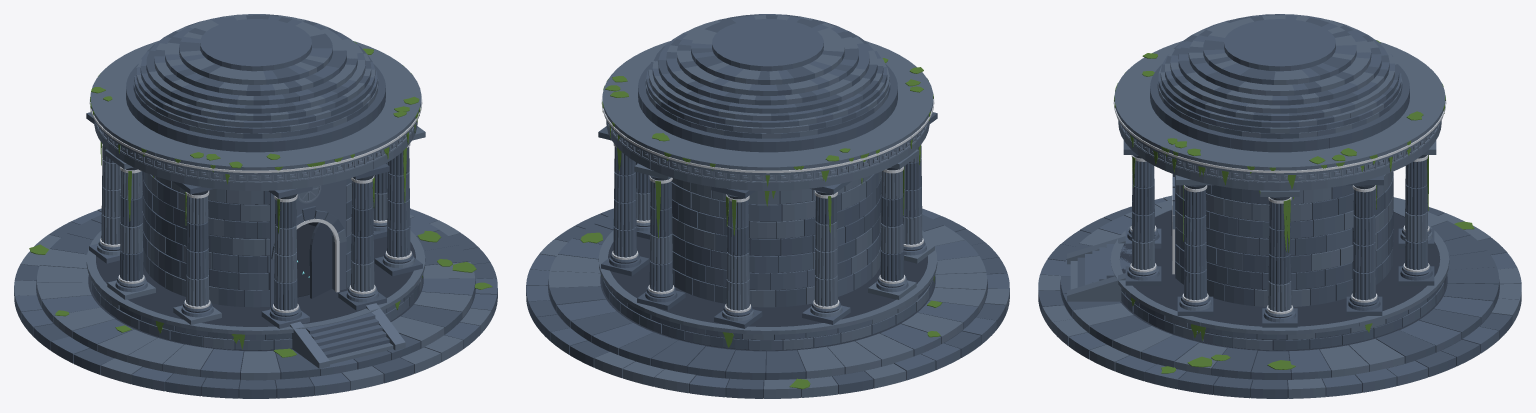
File: Faille_P1.fbx
The picture shows the model from 3 angles, left to right: view 1: azimuth 30°, elevation 25°; view 2: azimuth 150°, elevation 25°; view 3: azimuth 270°, elevation 25°; orthographic projection.
Visible parts, largest first — view 1: Faille_PierreB, Faille_PierreA, Faille_PierreC, Faille_Joint, Faille_Mousse, Faille_Argent, Faille_Gravure, Faille_Porte, Faille_Sombre; view 2: Faille_PierreB, Faille_PierreC, Faille_PierreA, Faille_Joint, Faille_Mousse, Faille_Argent, Faille_Gravure; view 3: Faille_PierreB, Faille_PierreC, Faille_PierreA, Faille_Joint, Faille_Mousse, Faille_Argent, Faille_Gravure.
Part boxes in pixels (left/top/right/bottom): Faille_PierreB: left=14, top=14, right=491, bottom=390; Faille_PierreA: left=15, top=15, right=497, bottom=395; Faille_PierreC: left=15, top=14, right=496, bottom=398; Faille_Joint: left=21, top=162, right=492, bottom=398; Faille_Mousse: left=29, top=41, right=492, bottom=357; Faille_Argent: left=89, top=93, right=422, bottom=312; Faille_Gravure: left=96, top=123, right=414, bottom=202; Faille_Porte: left=309, top=222, right=332, bottom=298; Faille_Sombre: left=296, top=224, right=315, bottom=297; Faille_PierreB: left=539, top=15, right=1009, bottom=398; Faille_PierreC: left=528, top=14, right=1007, bottom=398; Faille_PierreA: left=526, top=14, right=1009, bottom=397; Faille_Joint: left=535, top=162, right=1004, bottom=398; Faille_Mousse: left=580, top=58, right=942, bottom=389; Faille_Argent: left=601, top=93, right=934, bottom=312; Faille_Gravure: left=608, top=123, right=927, bottom=182; Faille_PierreB: left=1038, top=14, right=1521, bottom=398; Faille_PierreC: left=1038, top=14, right=1512, bottom=398; Faille_PierreA: left=1040, top=14, right=1517, bottom=396; Faille_Joint: left=1043, top=186, right=1510, bottom=398; Faille_Mousse: left=1114, top=40, right=1474, bottom=373; Faille_Argent: left=1113, top=93, right=1446, bottom=314; Faille_Gravure: left=1120, top=123, right=1439, bottom=182.
Size of the model in its own units: 63.99 by 37.1 by 63.99.
